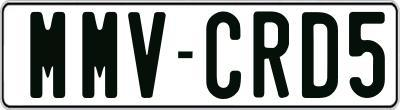5: (347, 9, 385, 99)
C: (205, 11, 240, 101)
D: (300, 10, 341, 102)
M: (80, 12, 120, 98), (27, 12, 64, 100)
R: (251, 10, 287, 102)
V: (125, 12, 166, 98)
